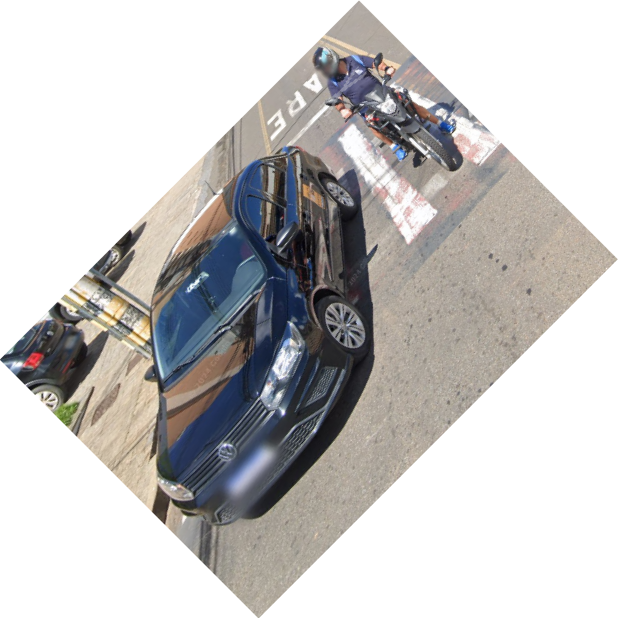car: (140, 142, 373, 539)
